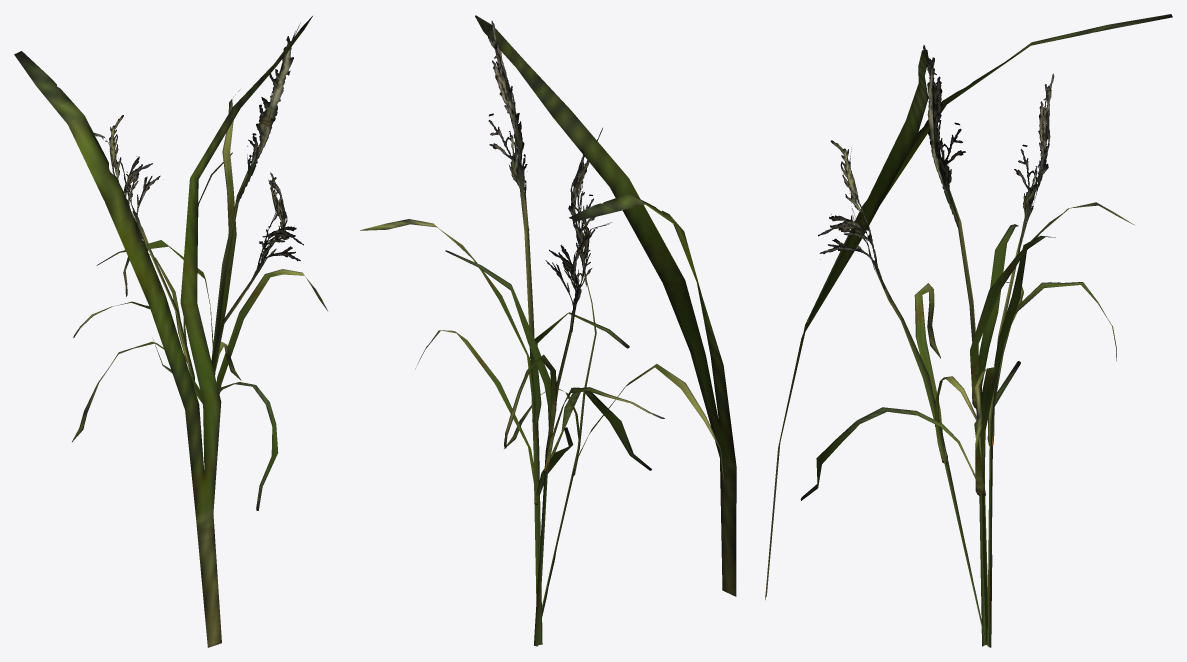
Rendered from meadow-grass.glb.
The picture shows the model from 3 angles, left to right: view 1: azimuth 30°, elevation 25°; view 2: azimuth 150°, elevation 25°; view 3: azimuth 270°, elevation 25°; orthographic projection. The views are drawn at different scales.
Visible parts, largest first — view 1: grass-b, grass-a; view 2: grass-a, grass-b; view 3: grass-a, grass-b.
Part boxes in pixels (box(x1,y1,x2,y2)): grass-b: box(14, 16, 312, 647); grass-a: box(72, 22, 327, 510); grass-a: box(360, 21, 725, 646); grass-b: box(475, 15, 736, 596); grass-a: box(800, 45, 1133, 647); grass-b: box(765, 14, 1172, 599).
Size of the model in its own units: 0.5249 by 1 by 0.5713.
1 material, 1 textured.
